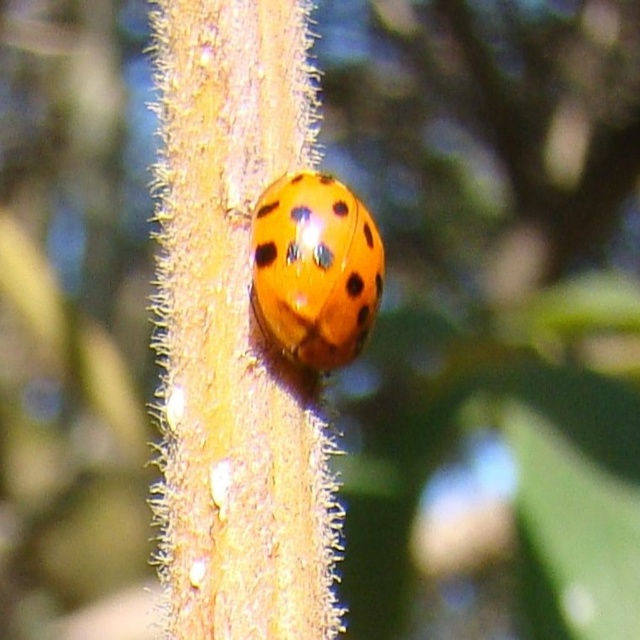Ladybug: (249, 170, 386, 378)
